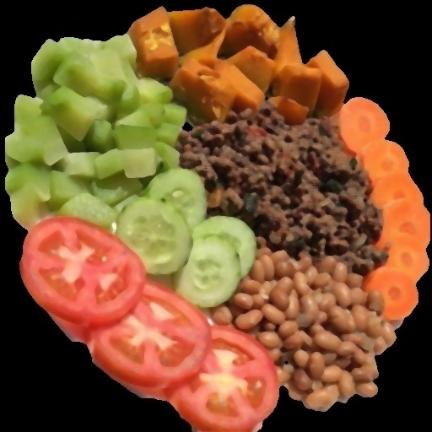beans: (209, 245, 396, 410)
carrot: (329, 95, 429, 324), (338, 99, 428, 330)
cucumber: (58, 168, 256, 315)
green_vegetables: (2, 32, 188, 223)
meat: (180, 104, 388, 278)
tomato: (21, 214, 284, 431)
